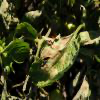Tomato leaf late blight: (30, 32, 78, 91)
